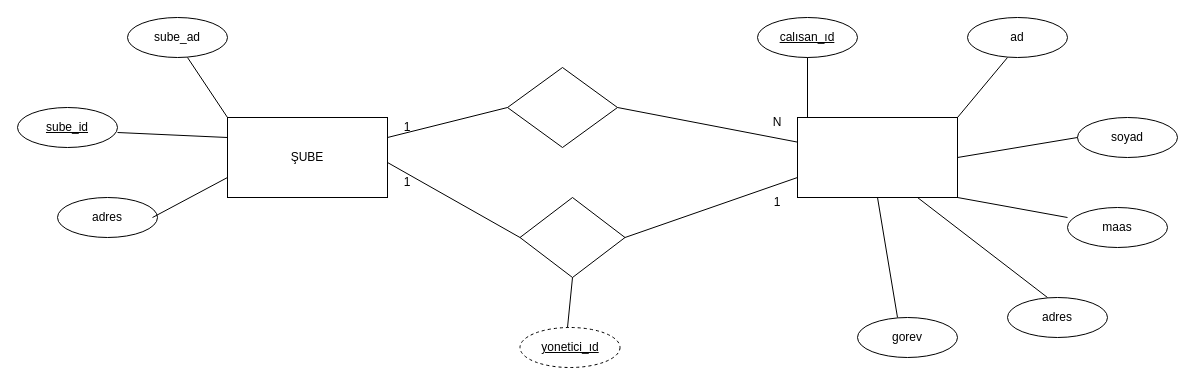
Some shapes in this 1195 by 385 pixel diagram are drawn without their labels. Here are the shapes that lost their labels. From the top down, the centre of each, then its label:
(562,107): Çalışır
(877,157): ÇALIŞAN
(572,237): Yönetir
